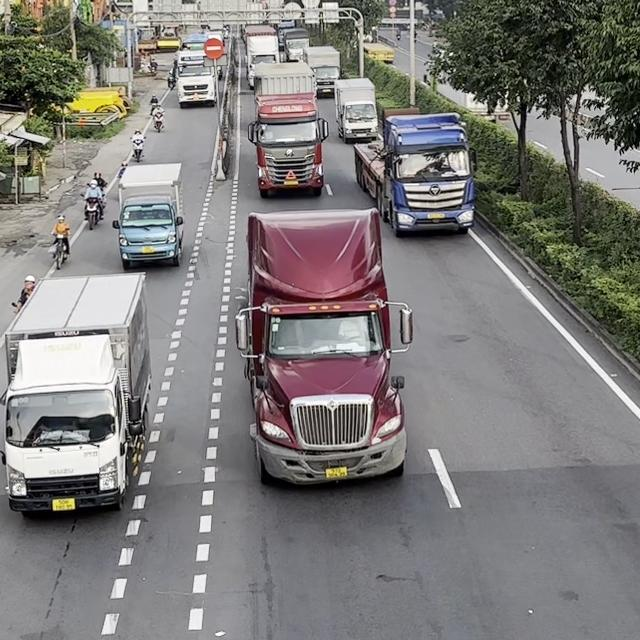motorcycle: (49, 229, 70, 269), (81, 194, 104, 230), (130, 130, 146, 162), (150, 106, 164, 132), (166, 71, 176, 89), (149, 60, 157, 76)
truck: (234, 207, 413, 486), (0, 271, 152, 516), (353, 108, 477, 236), (247, 61, 329, 198), (110, 162, 193, 270), (332, 76, 379, 144), (242, 23, 281, 89), (176, 50, 219, 107), (299, 45, 341, 97), (279, 26, 310, 62)
